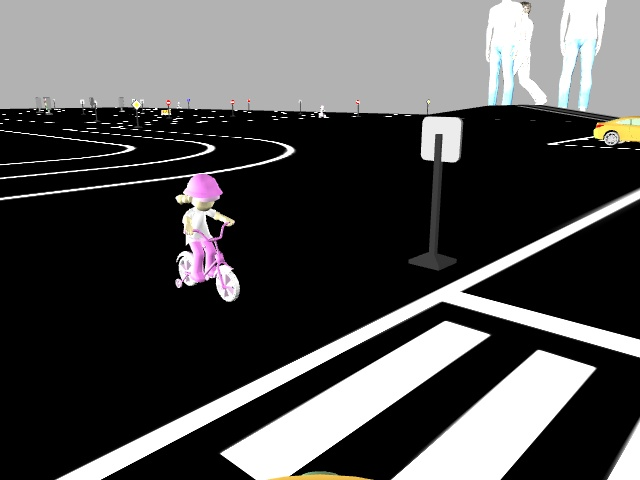Pedestrian: (168, 170, 242, 307)
